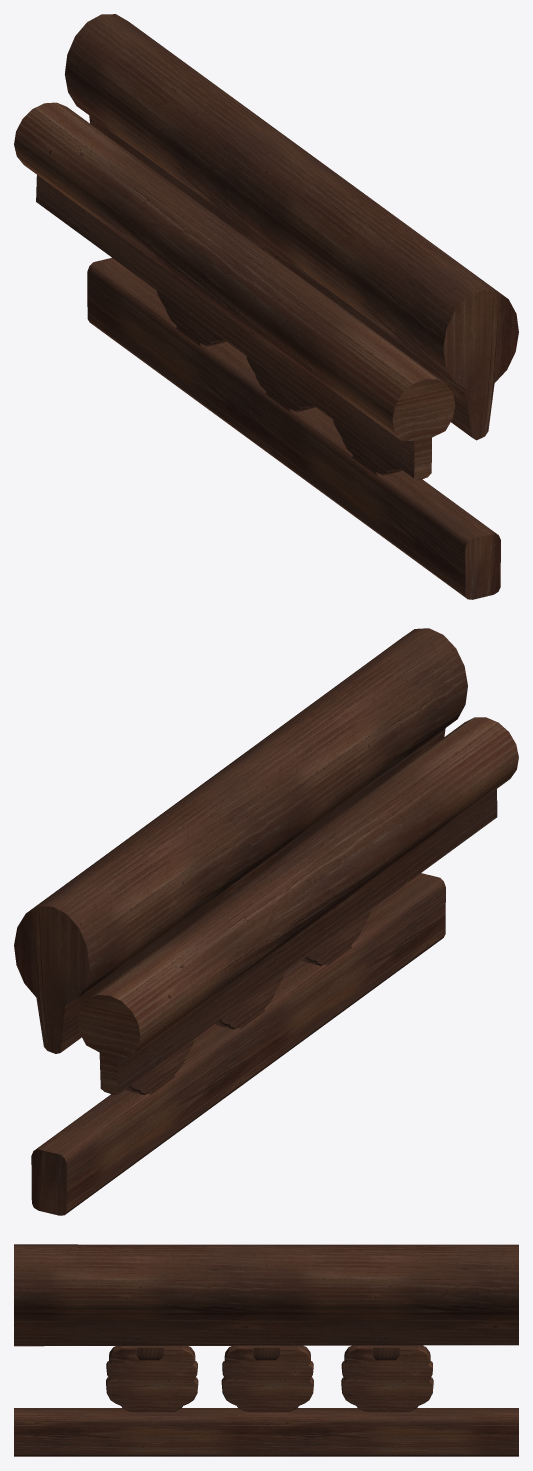
The model's file is SM_R_Dancheong_30.fbx.
3 renders of one model, top to bottom at view 1: azimuth 30°, elevation 25°; view 2: azimuth 150°, elevation 25°; view 3: azimuth 270°, elevation 25°, orthographic. The views are drawn at different scales.
Parts seen in each view (by area): view 1: SM_R_Dancheong_30; view 2: SM_R_Dancheong_30; view 3: SM_R_Dancheong_30.
Part boxes in pixels (box(x1,y1,x2,y2)): SM_R_Dancheong_30: box(14, 14, 518, 599); SM_R_Dancheong_30: box(14, 628, 518, 1215); SM_R_Dancheong_30: box(14, 1244, 518, 1456).
Size of the model in its own units: 73.23 by 378 by 170.
Materials: 2 (2 with a texture image).
